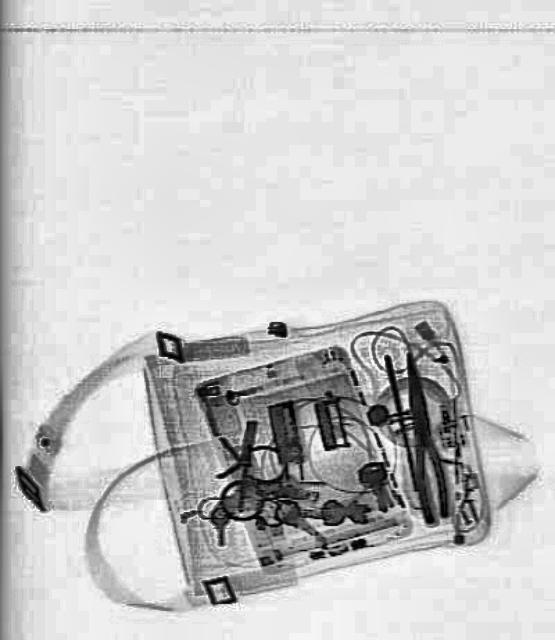Pliers: (392, 352, 452, 524)
